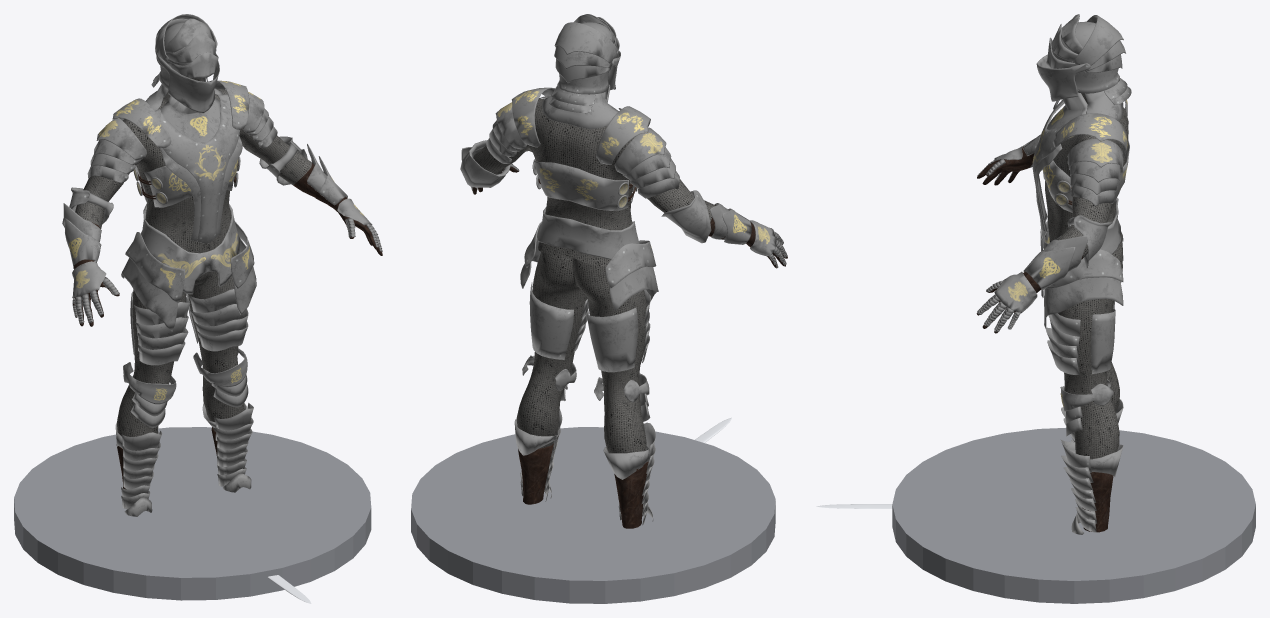
The model's file is armor_sentinel.glb.
3 renders of one model, left to right at view 1: azimuth 30°, elevation 25°; view 2: azimuth 150°, elevation 25°; view 3: azimuth 270°, elevation 25°, orthographic. The views are drawn at different scales.
Visible parts, largest first — view 1: Platemail, ArmorPedestal, chainmail, leather; view 2: ArmorPedestal, Platemail, chainmail, leather; view 3: ArmorPedestal, Platemail, chainmail, leather.
Part boxes in pixels (x1,y1,x2,y2): Platemail: (62, 14, 382, 516); ArmorPedestal: (14, 427, 371, 600); chainmail: (75, 78, 311, 436); leather: (73, 161, 382, 489); ArmorPedestal: (411, 427, 775, 603); Platemail: (460, 14, 787, 525); chainmail: (473, 98, 714, 453); leather: (472, 167, 787, 528); ArmorPedestal: (892, 428, 1255, 603); Platemail: (977, 14, 1131, 534); chainmail: (1045, 93, 1128, 509); leather: (976, 146, 1113, 532).
Bounding box in the file's own units: 1.44 × 2.26 × 1.74.
6 materials, 3 textured.
